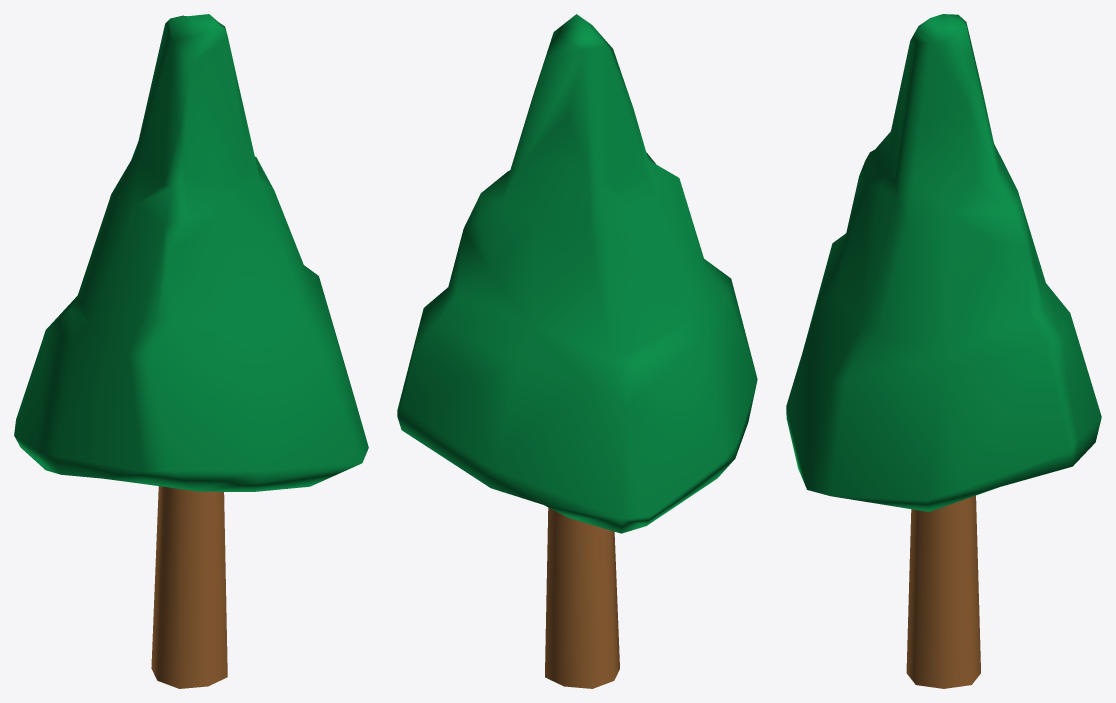
File: SM_tree_3.fbx
3 views of the same model, side by side, from view 1: azimuth 30°, elevation 25°; view 2: azimuth 150°, elevation 25°; view 3: azimuth 270°, elevation 25° (orthographic).
Visible parts, largest first — view 1: SM_tree_3_LOD0; view 2: SM_tree_3_LOD0; view 3: SM_tree_3_LOD0.
Boxes of the visible parts, x1=… form: SM_tree_3_LOD0: x1=14, y1=14, x2=368, y2=688; SM_tree_3_LOD0: x1=397, y1=14, x2=757, y2=688; SM_tree_3_LOD0: x1=786, y1=14, x2=1101, y2=688.
Size of what is drawn, in the model's own units: 448 by 931 by 403.
Materials: 1 (1 with a texture image).
